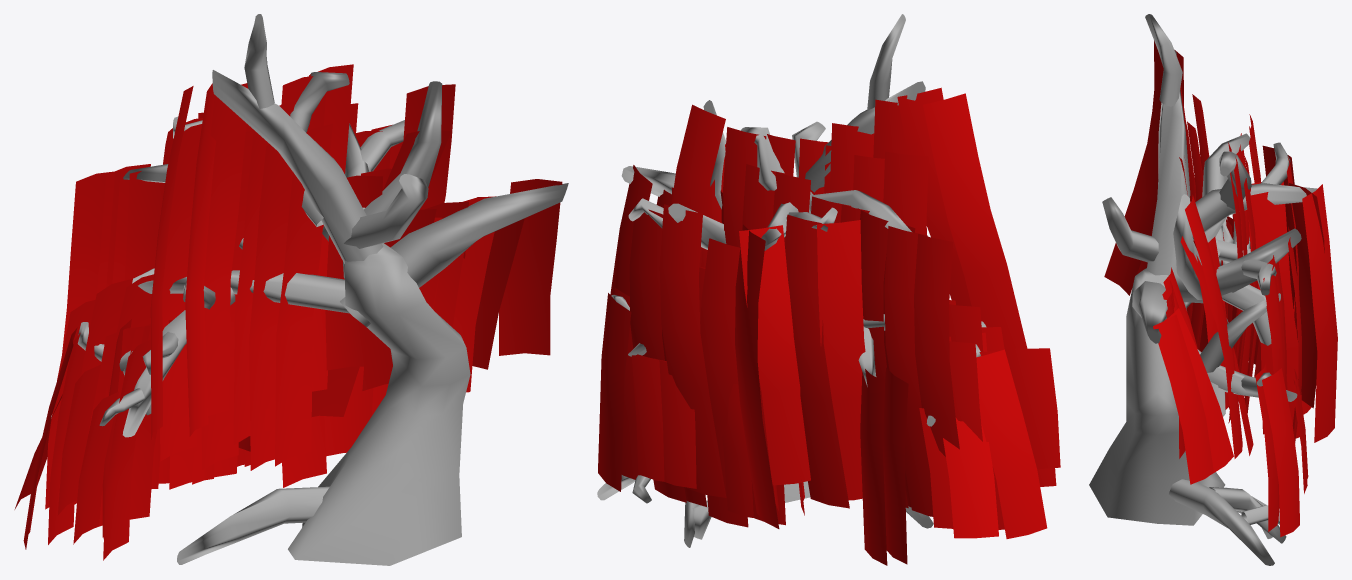
Rendered from Tree_4_Anim.fbx.
The picture shows the model from 3 angles, left to right: view 1: azimuth 30°, elevation 25°; view 2: azimuth 150°, elevation 25°; view 3: azimuth 270°, elevation 25°; orthographic projection. The views are drawn at different scales.
Parts seen in each view (by area): view 1: Tree, Leaves, Leaves1; view 2: Leaves1, Leaves, Tree; view 3: Tree, Leaves, Leaves1.
Boxes of the visible parts, bbox=[...] form: Tree: bbox=[77, 14, 568, 565]; Leaves: bbox=[48, 64, 562, 560]; Leaves1: bbox=[14, 76, 524, 549]; Leaves1: bbox=[614, 93, 1060, 564]; Leaves: bbox=[598, 87, 1056, 565]; Tree: bbox=[597, 14, 986, 547]; Tree: bbox=[1089, 14, 1317, 565]; Leaves: bbox=[1104, 49, 1337, 537]; Leaves1: bbox=[1137, 40, 1324, 531].
Size of the model in its own units: 1642 by 1786 by 862.
